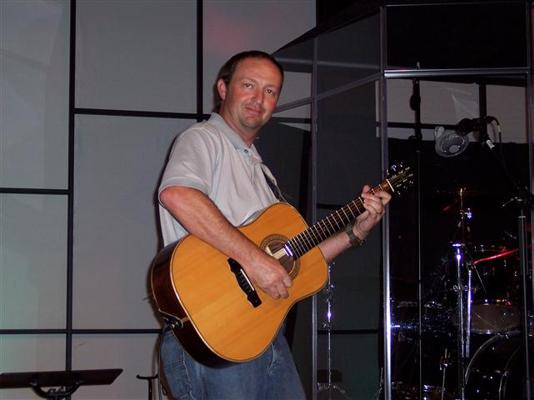person: (158, 50, 391, 398)
